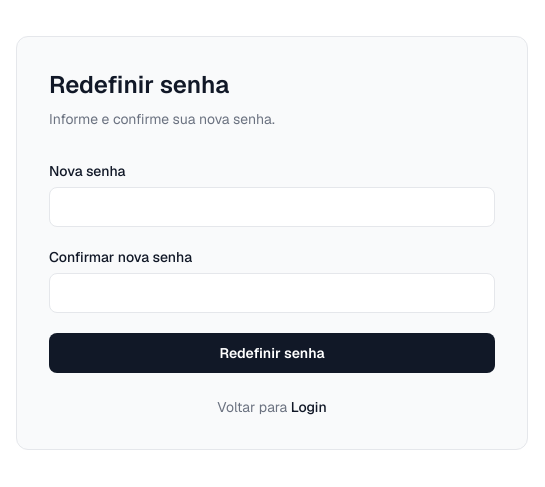
Scenario: ResetPasswordPage › deve rejeitar quando as senhas não coincidirem
The width and height of the screenshot is (545, 487).
In the password field labelled "Nova senha": {"x": 272, "y": 207} [49,187,495,227], type "novaSenha123"
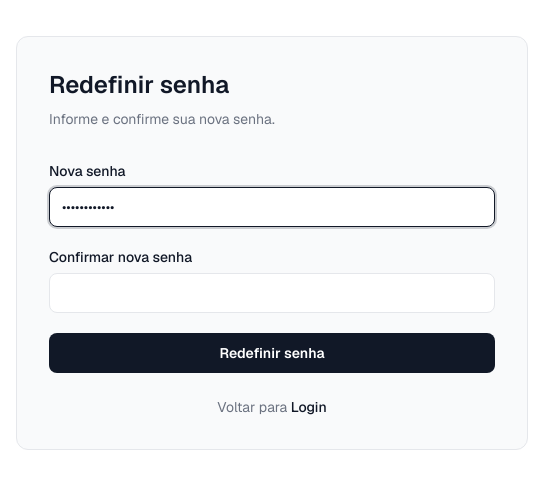
In the password field labelled "Confirmar nova senha": {"x": 272, "y": 293} [49,273,495,313], type "outraSenha123"
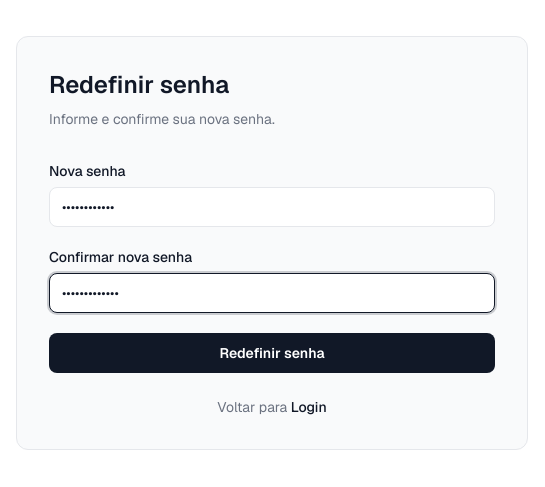
Click the button "Redefinir senha": {"x": 272, "y": 353} [49,333,495,373]
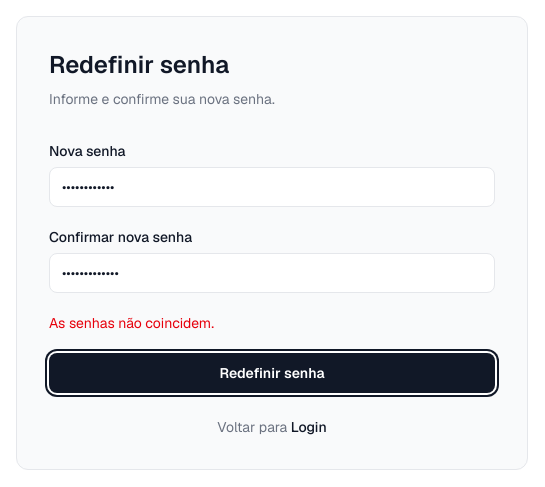
Now the message reads "As senhas não coincidem.", box [49,314,214,332]
